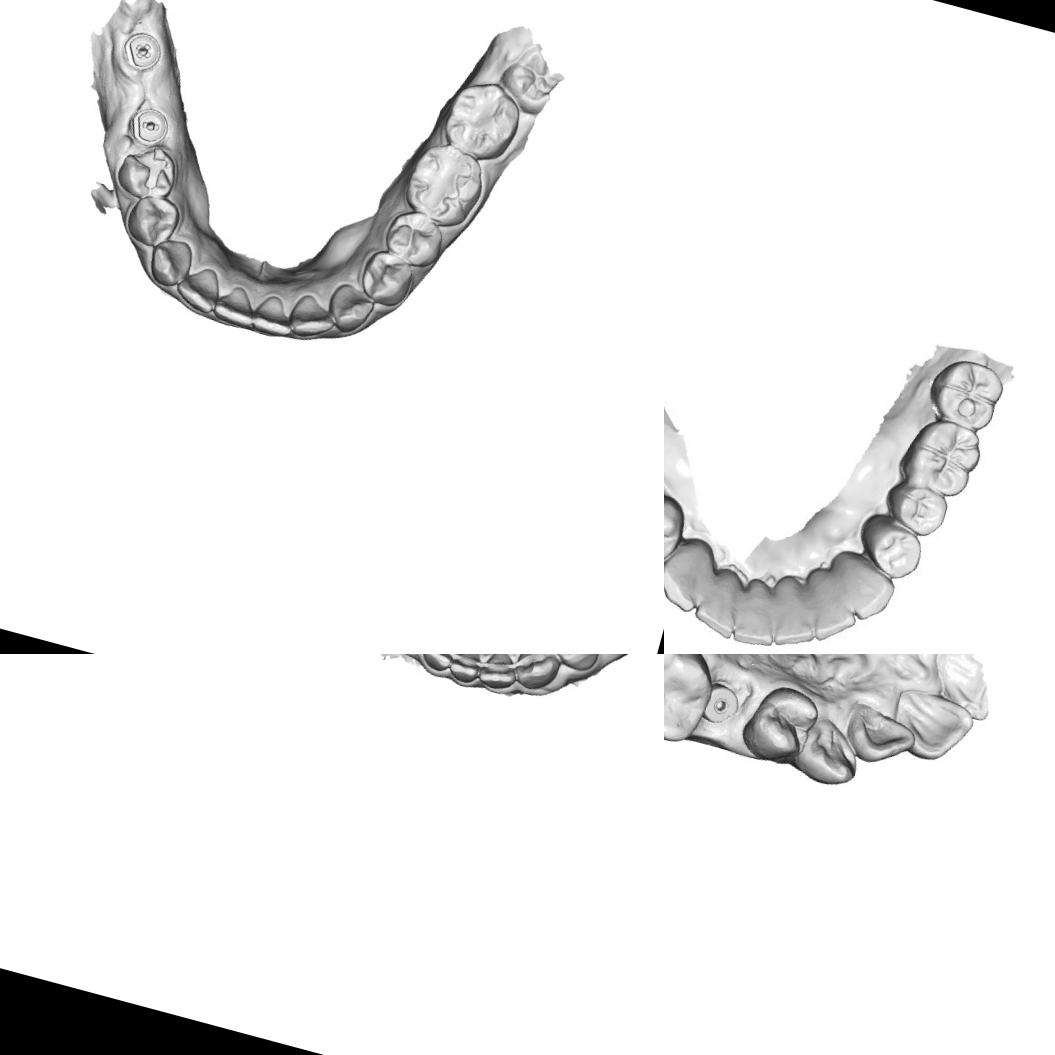canine: (792, 709, 869, 793), (822, 548, 900, 620), (664, 536, 717, 611), (321, 278, 379, 339), (142, 230, 198, 291), (510, 654, 562, 693)
implant: (700, 677, 744, 727)
implant_minus: (121, 101, 172, 150)
implant_plus: (115, 26, 167, 76)
incisor: (882, 683, 980, 769), (843, 704, 920, 772), (799, 570, 864, 642), (763, 574, 826, 648), (692, 563, 752, 636), (729, 576, 787, 650), (170, 260, 226, 316), (284, 289, 340, 344), (246, 289, 300, 342), (209, 278, 261, 329), (474, 654, 524, 694), (444, 654, 486, 686), (417, 654, 459, 675)
molar: (396, 134, 491, 234), (436, 72, 528, 168), (904, 417, 988, 505), (928, 354, 1009, 432), (664, 654, 720, 747)
premolar: (734, 676, 822, 772), (109, 136, 184, 207), (378, 202, 450, 274), (354, 245, 418, 310), (119, 188, 184, 251), (862, 516, 928, 578), (895, 486, 950, 534), (542, 654, 607, 676), (664, 495, 682, 562)
